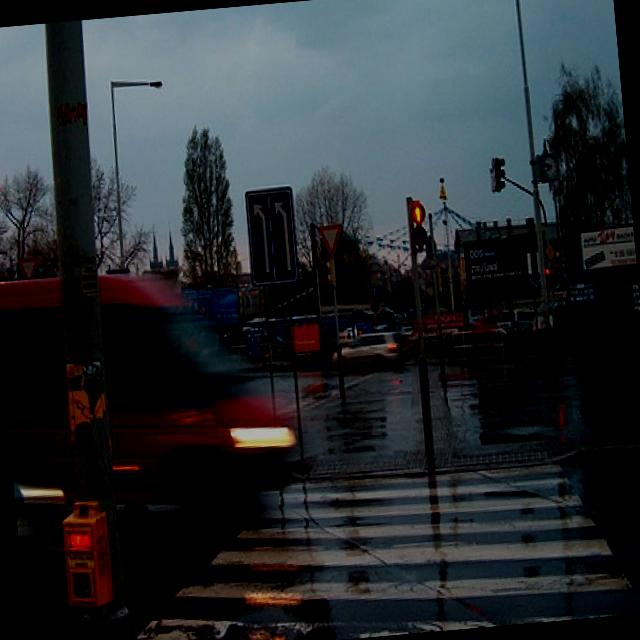Vehicle: (0, 249, 317, 536), (0, 255, 317, 524), (10, 434, 80, 640), (330, 330, 408, 372), (494, 305, 538, 347), (530, 300, 572, 342), (460, 316, 499, 344)
